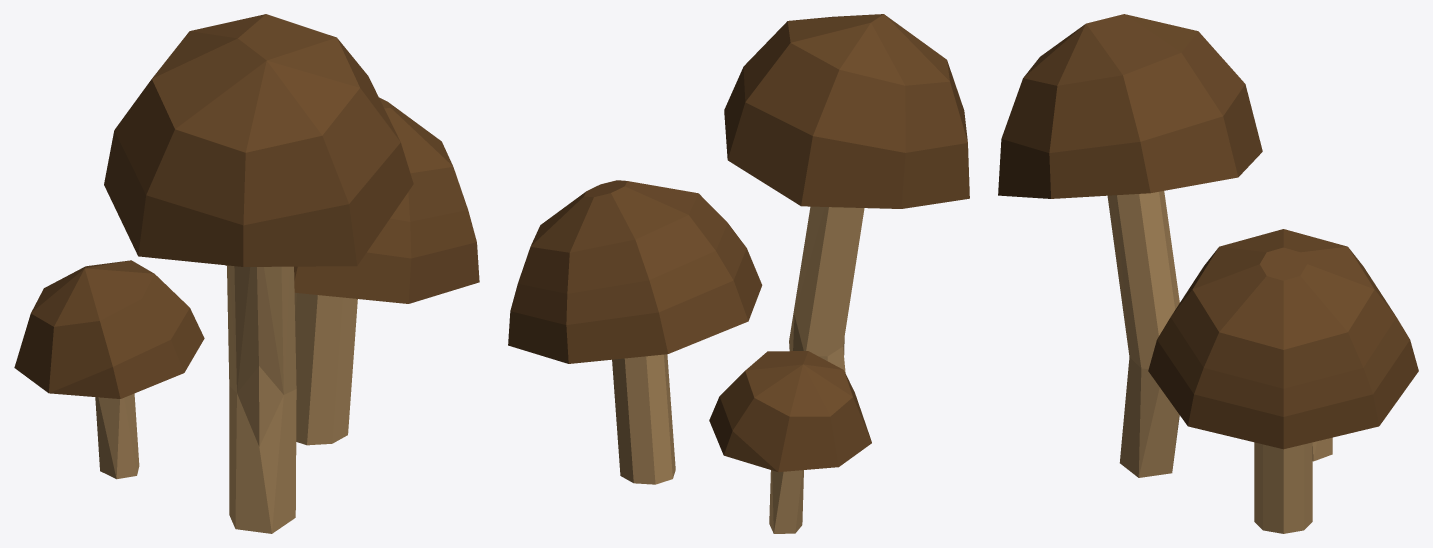
The model's file is mushroom_1.glb.
3 renders of one model, left to right at view 1: azimuth 30°, elevation 25°; view 2: azimuth 150°, elevation 25°; view 3: azimuth 270°, elevation 25°, orthographic. The views are drawn at different scales.
Visible parts, largest first — view 1: Cylinder.002; view 2: Cylinder.002; view 3: Cylinder.002.
Part boxes in pixels (box(x1,y1,x2,y2)): Cylinder.002: box(14, 14, 479, 533); Cylinder.002: box(508, 14, 969, 533); Cylinder.002: box(998, 14, 1418, 533).
Bounding box in the file's own units: 0.416 × 0.4769 × 0.4106.
